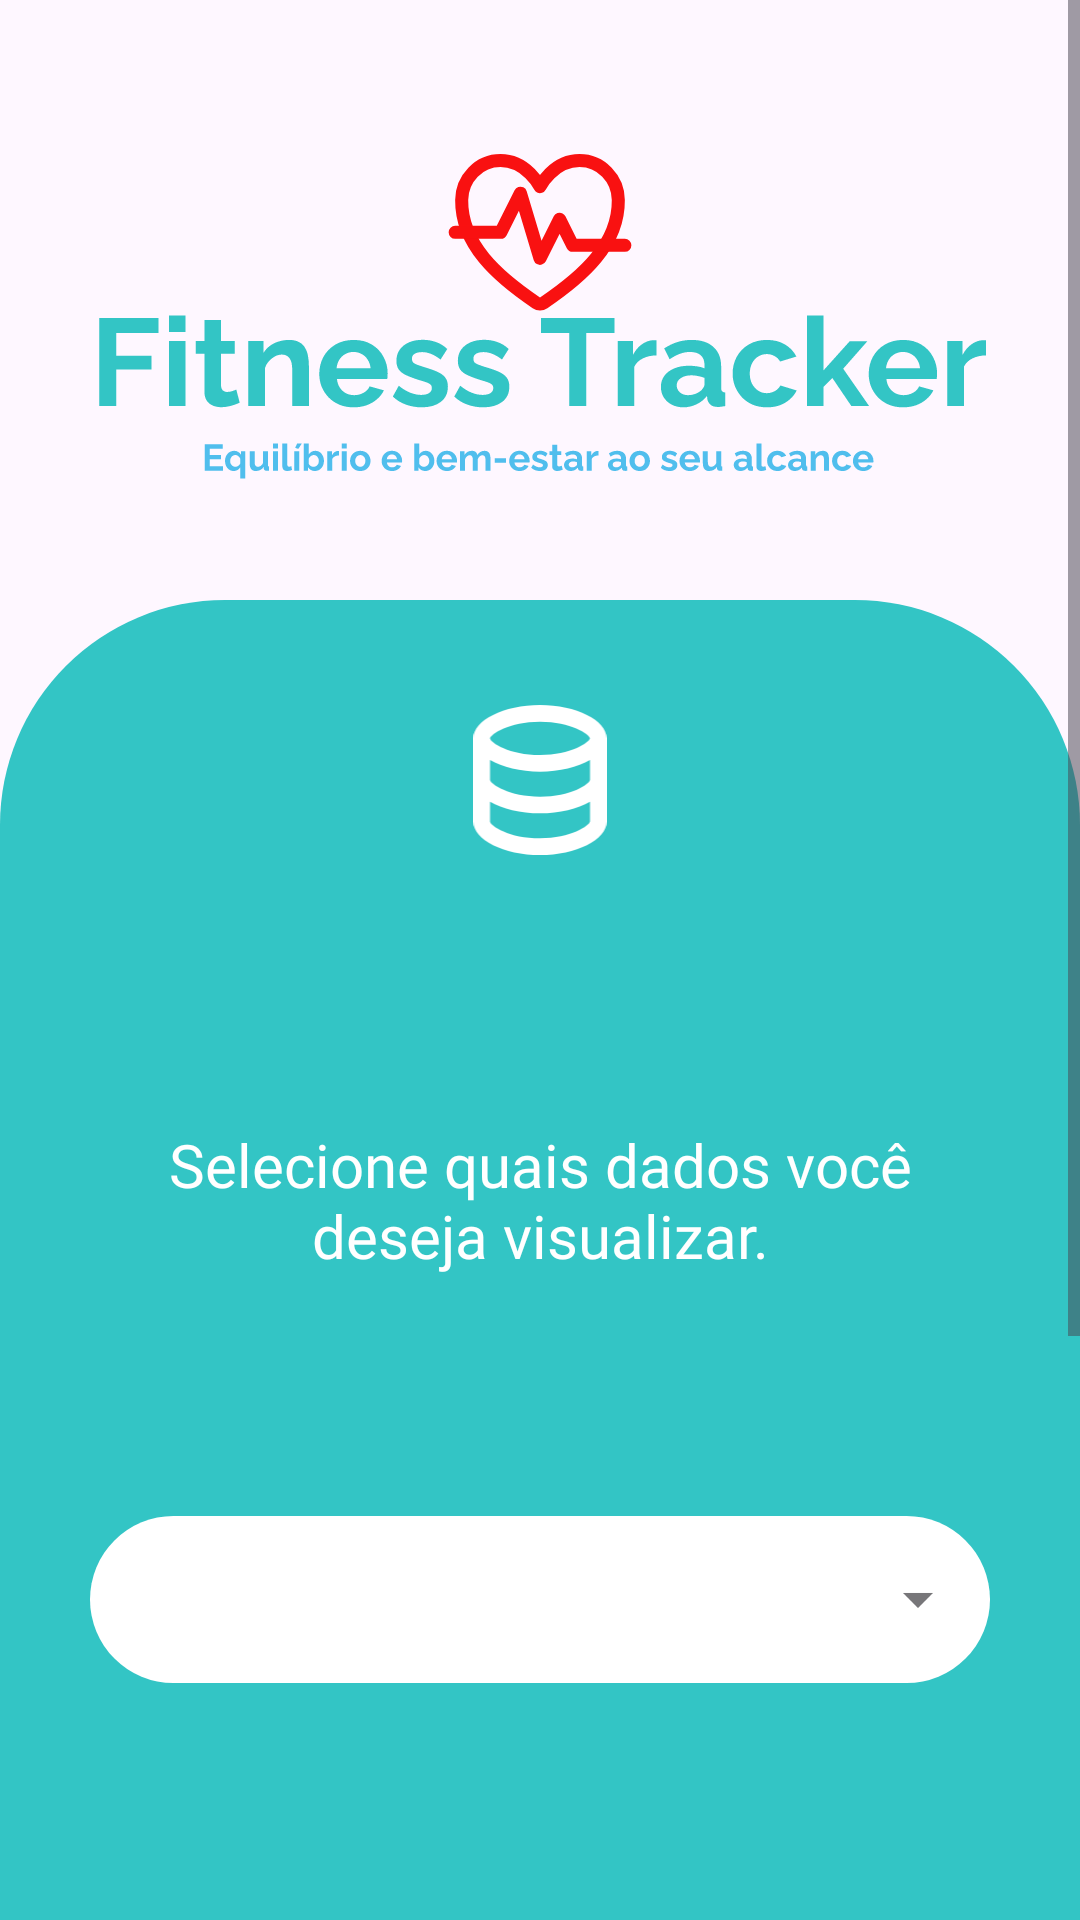

Point at icon controls on the screen. Image size 1080x1920, points as (x,y).
data: (540,780)
